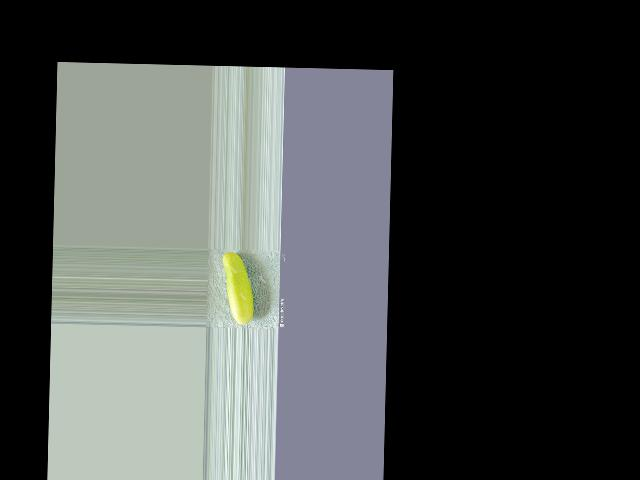cucumber: (221, 251, 255, 324)
